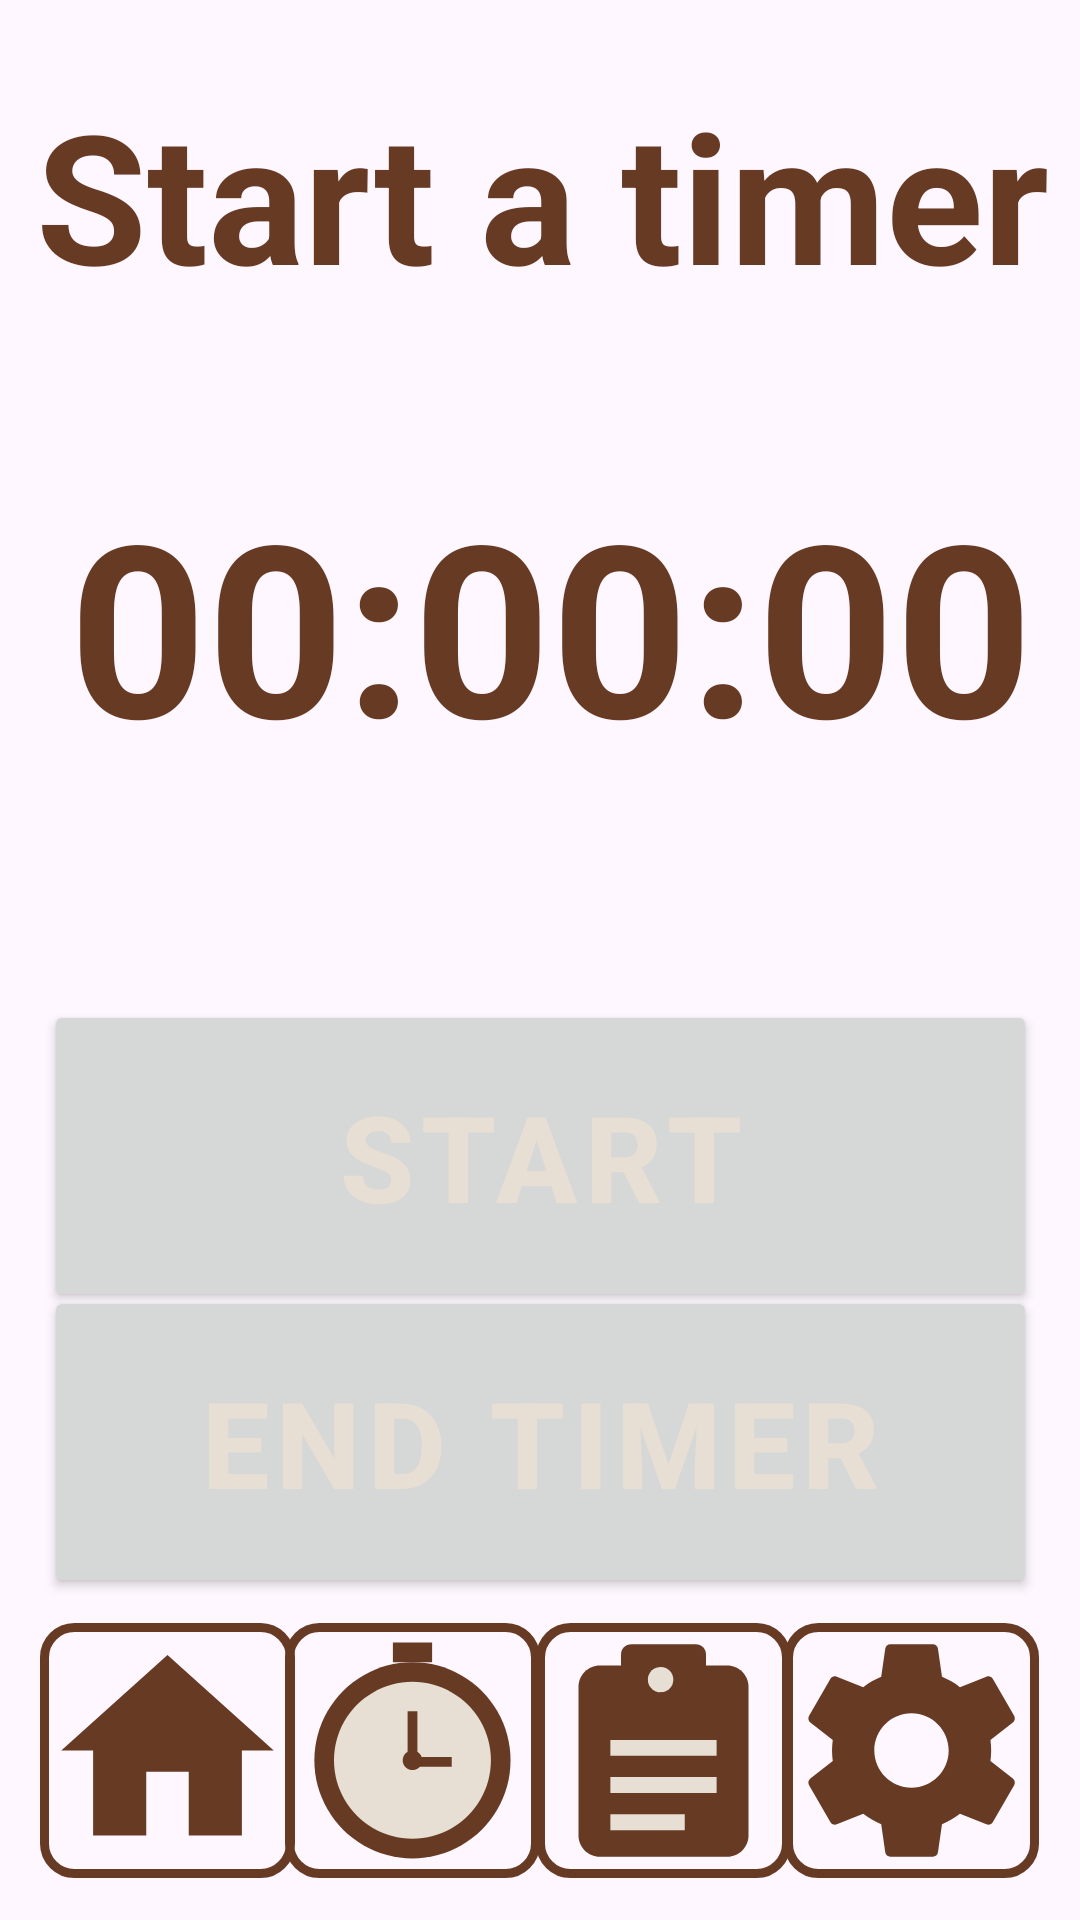

Screen size 1080*1920. Icon name, then its box in pixels as BBox(x1, y1, x2, y2):
homebutton: BBox(61, 1655, 274, 1836)
settingsbutton: BBox(808, 1644, 1015, 1857)
